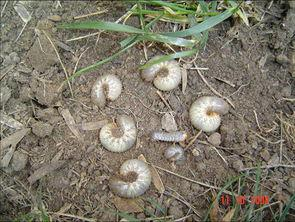grub: (190, 95, 238, 146)
